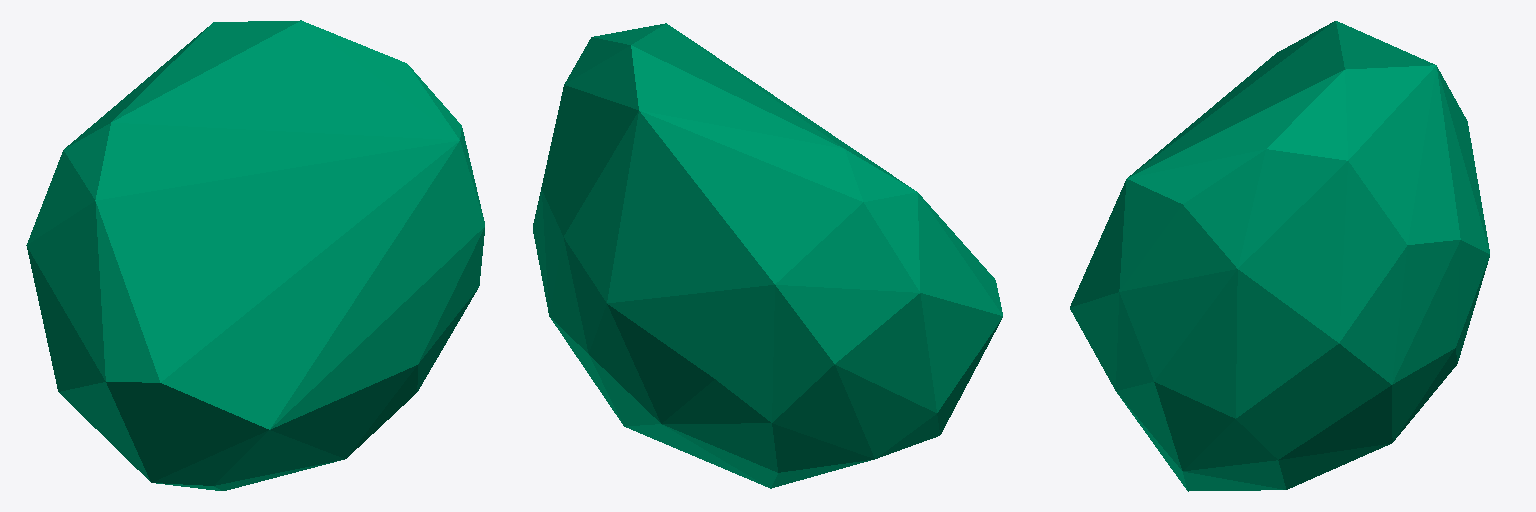
URDF robot description (SpidermanLFootSphere):
<?xml version="1.0"?>
<robot name="SpidermanLFootSphere">

  <link name="base_link"/>
  <joint name="base_link_J" type="fixed">
      <parent link="base_link"/>
      <child link="Pelvis"/>
      <origin rpy="0 0 0" xyz="0 0 0"/>
   </joint>

   <link name="Pelvis"/>
   
   <joint name="pelvis_lfoot_rom_joint" type="fixed">
      <parent link="Pelvis"/>
      <child link="pelvis_lfoot_rom"/>
      <origin rpy="0 0 0" xyz="0 0 0"/>
   </joint>

  <link name="pelvis_lfoot_rom">
      <visual>
         <origin xyz="0 0 0" rpy="0 0 0"/>
         <geometry>
            <mesh filename="package://hpp-rbprm-corba/meshes/spiderman/lfoot_rom.stl"/>
         </geometry>
      </visual>
	  <collision>
         <origin xyz="0 0 0" rpy="0 0 0"/>
         <geometry>
            <mesh filename="package://hpp-rbprm-corba/meshes/spiderman/lfoot_rom.stl"/>
         </geometry>
      </collision>
   </link>
   
   <link name="Thorax_rx"/>
   <link name="Thorax_ry"/>
   <link name="Thorax"/>
   <link name="Skull_rx"/>
   <link name="Skull_ry"/>
   <link name="Skull"/>

  <joint name="A_Thorax_rx" type="revolute"> <!-- A_ added for order while parsing with ROS -->
      <parent link="Pelvis"/>
      <child link="Thorax_rx"/>
      <origin rpy="0 0 0" xyz="0.0373 0.0006 0.0788"/>
      <axis xyz="1 0 0"/>
      <limit effort="0" lower="-1" upper="1" velocity="1.0"/>
   </joint>
   <joint name="Thorax_ry" type="revolute">
      <parent link="Thorax_rx"/>
      <child link="Thorax_ry"/>
      <origin rpy="0 0 0" xyz="0 0 0"/>
      <axis xyz="0 1 0"/>
      <limit effort="0" lower="-0.8" upper="0.8" velocity="1.0"/>
   </joint>
   <joint name="Thorax_rz" type="revolute">
      <parent link="Thorax_ry"/>
      <child link="Thorax"/>
      <origin rpy="0 0 0" xyz="0 0 0"/>
      <axis xyz="0 0 1"/>
      <limit effort="0" lower="-1.5" upper="1.5" velocity="1.0"/>
   </joint>
   <joint name="A_Skull_rx" type="revolute"> <!-- A_ added for order while parsing with ROS -->
      <parent link="Thorax"/>
      <child link="Skull_rx"/>
      <origin rpy="0 0 0" xyz="0.0711 -0.0005 0.6039"/>
      <axis xyz="1 0 0"/>
      <limit effort="0" lower="-0.3" upper="0.3" velocity="1.0"/>
   </joint>
   <joint name="Skull_ry" type="revolute">
      <parent link="Skull_rx"/>
      <child link="Skull_ry"/>
      <origin rpy="0 0 0" xyz="0 0 0"/>
      <axis xyz="0 1 0"/>
      <limit effort="0" lower="-1.1" upper="0.6" velocity="1.0"/>
   </joint>
   <joint name="Skull_rz" type="revolute">
      <parent link="Skull_ry"/>
      <child link="Skull"/>
      <origin rpy="0 0 0" xyz="0 0 0"/>
      <axis xyz="0 0 1"/>
      <limit effort="0" lower="-1.4" upper="1." velocity="1.0"/>
   </joint>
</robot>

--- Facts derived from the render (not from the file) ---
The picture shows the robot from 3 angles, left to right: view 1: azimuth 30°, elevation 25°; view 2: azimuth 150°, elevation 25°; view 3: azimuth 270°, elevation 25°; orthographic projection.
Model SpidermanLFootSphere with 9 links and 8 joints (6 revolute, 2 fixed), rooted at base_link, posed all joints at 0.
Links seen in each view (by area): view 1: pelvis_lfoot_rom; view 2: pelvis_lfoot_rom; view 3: pelvis_lfoot_rom.
Link boxes in pixels (x1,y1,x2,y2): pelvis_lfoot_rom: (26, 20, 484, 490); pelvis_lfoot_rom: (533, 23, 1002, 488); pelvis_lfoot_rom: (1070, 21, 1489, 491).
Size in the robot's own frame: 1.75 by 1.48 by 1.75 metres.
1 mesh visuals loaded from 1 distinct referenced files (1 binary STL).
